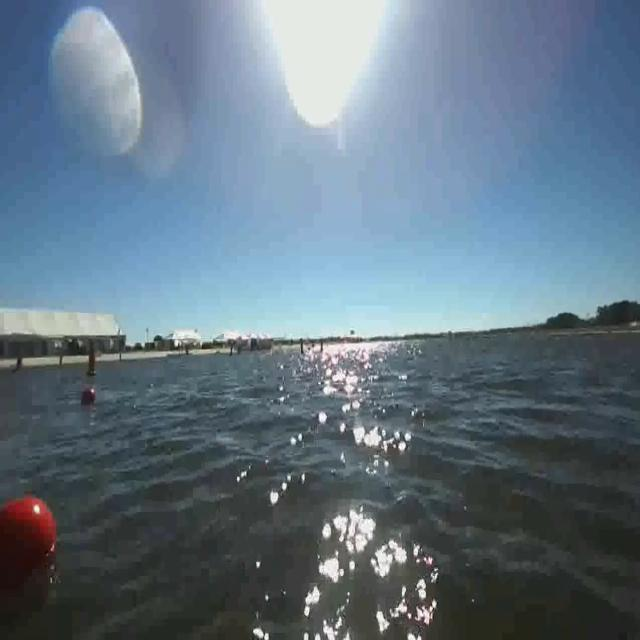red-buoy: (2, 496, 56, 570), (84, 389, 97, 406)
